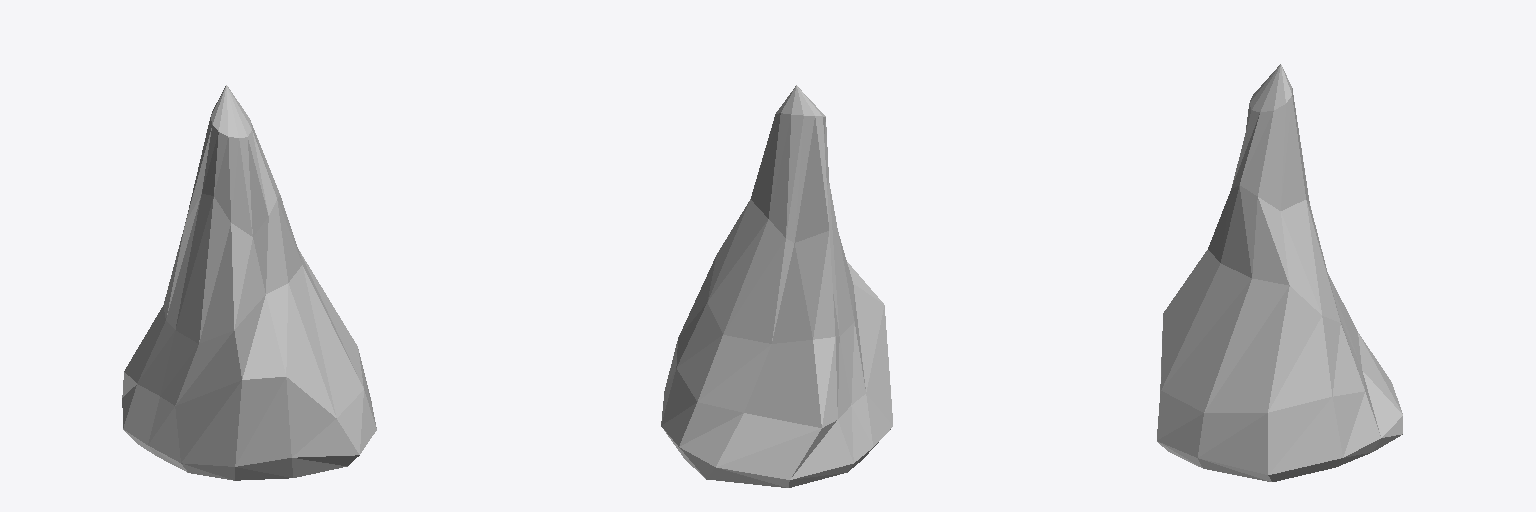
File: stalactite3.obj
3 views of the same model, side by side, from view 1: azimuth 30°, elevation 25°; view 2: azimuth 150°, elevation 25°; view 3: azimuth 270°, elevation 25° (orthographic).
Visible parts, largest first — view 1: stalactite1_pCylinder2; view 2: stalactite1_pCylinder2; view 3: stalactite1_pCylinder2.
Boxes of the visible parts, x1,y1,x2,y2 form: stalactite1_pCylinder2: [122, 85, 376, 480]; stalactite1_pCylinder2: [661, 85, 892, 487]; stalactite1_pCylinder2: [1157, 64, 1402, 481].
Bounding box in the file's own units: 1.69 × 2.63 × 1.65.